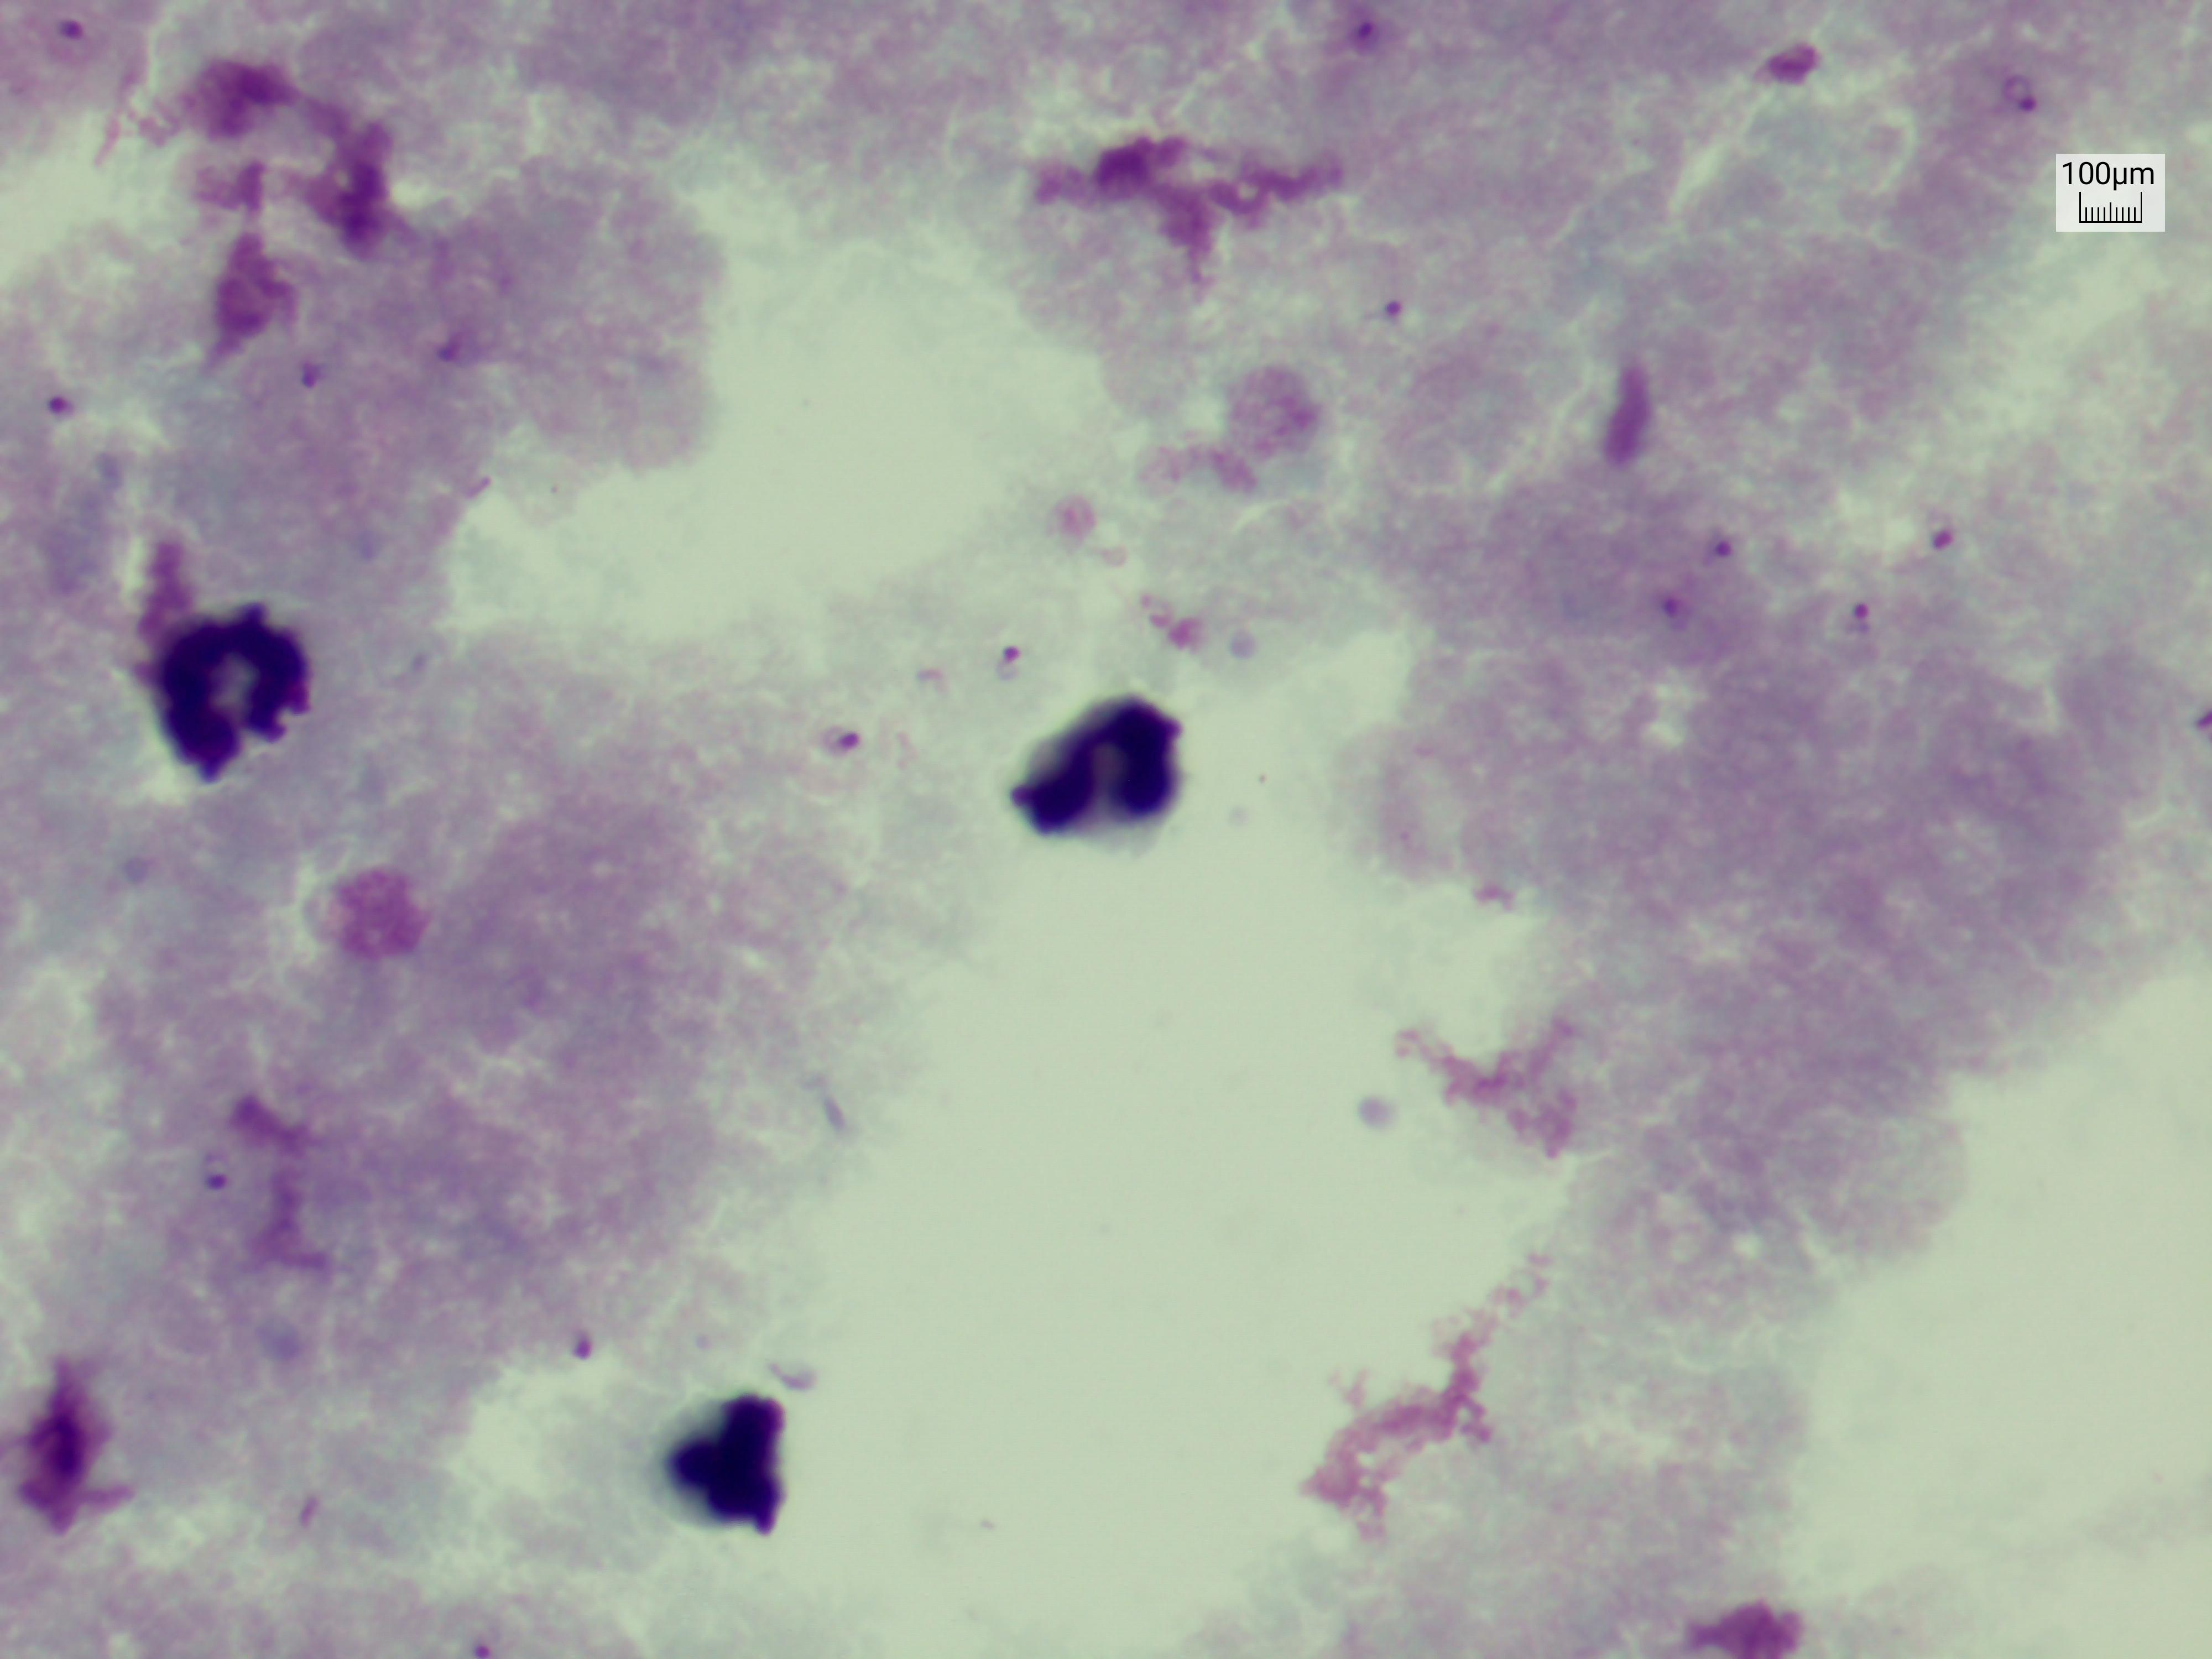p.falciparum: (273, 315, 350, 420), (1371, 268, 1442, 361), (805, 687, 871, 784), (1986, 45, 2048, 148), (30, 352, 99, 444), (1642, 565, 1714, 648), (44, 0, 129, 68), (1836, 570, 1892, 669), (984, 615, 1049, 701), (174, 1134, 246, 1201), (554, 1317, 617, 1387), (420, 301, 475, 380), (1914, 509, 1980, 570), (1698, 521, 1738, 577)
